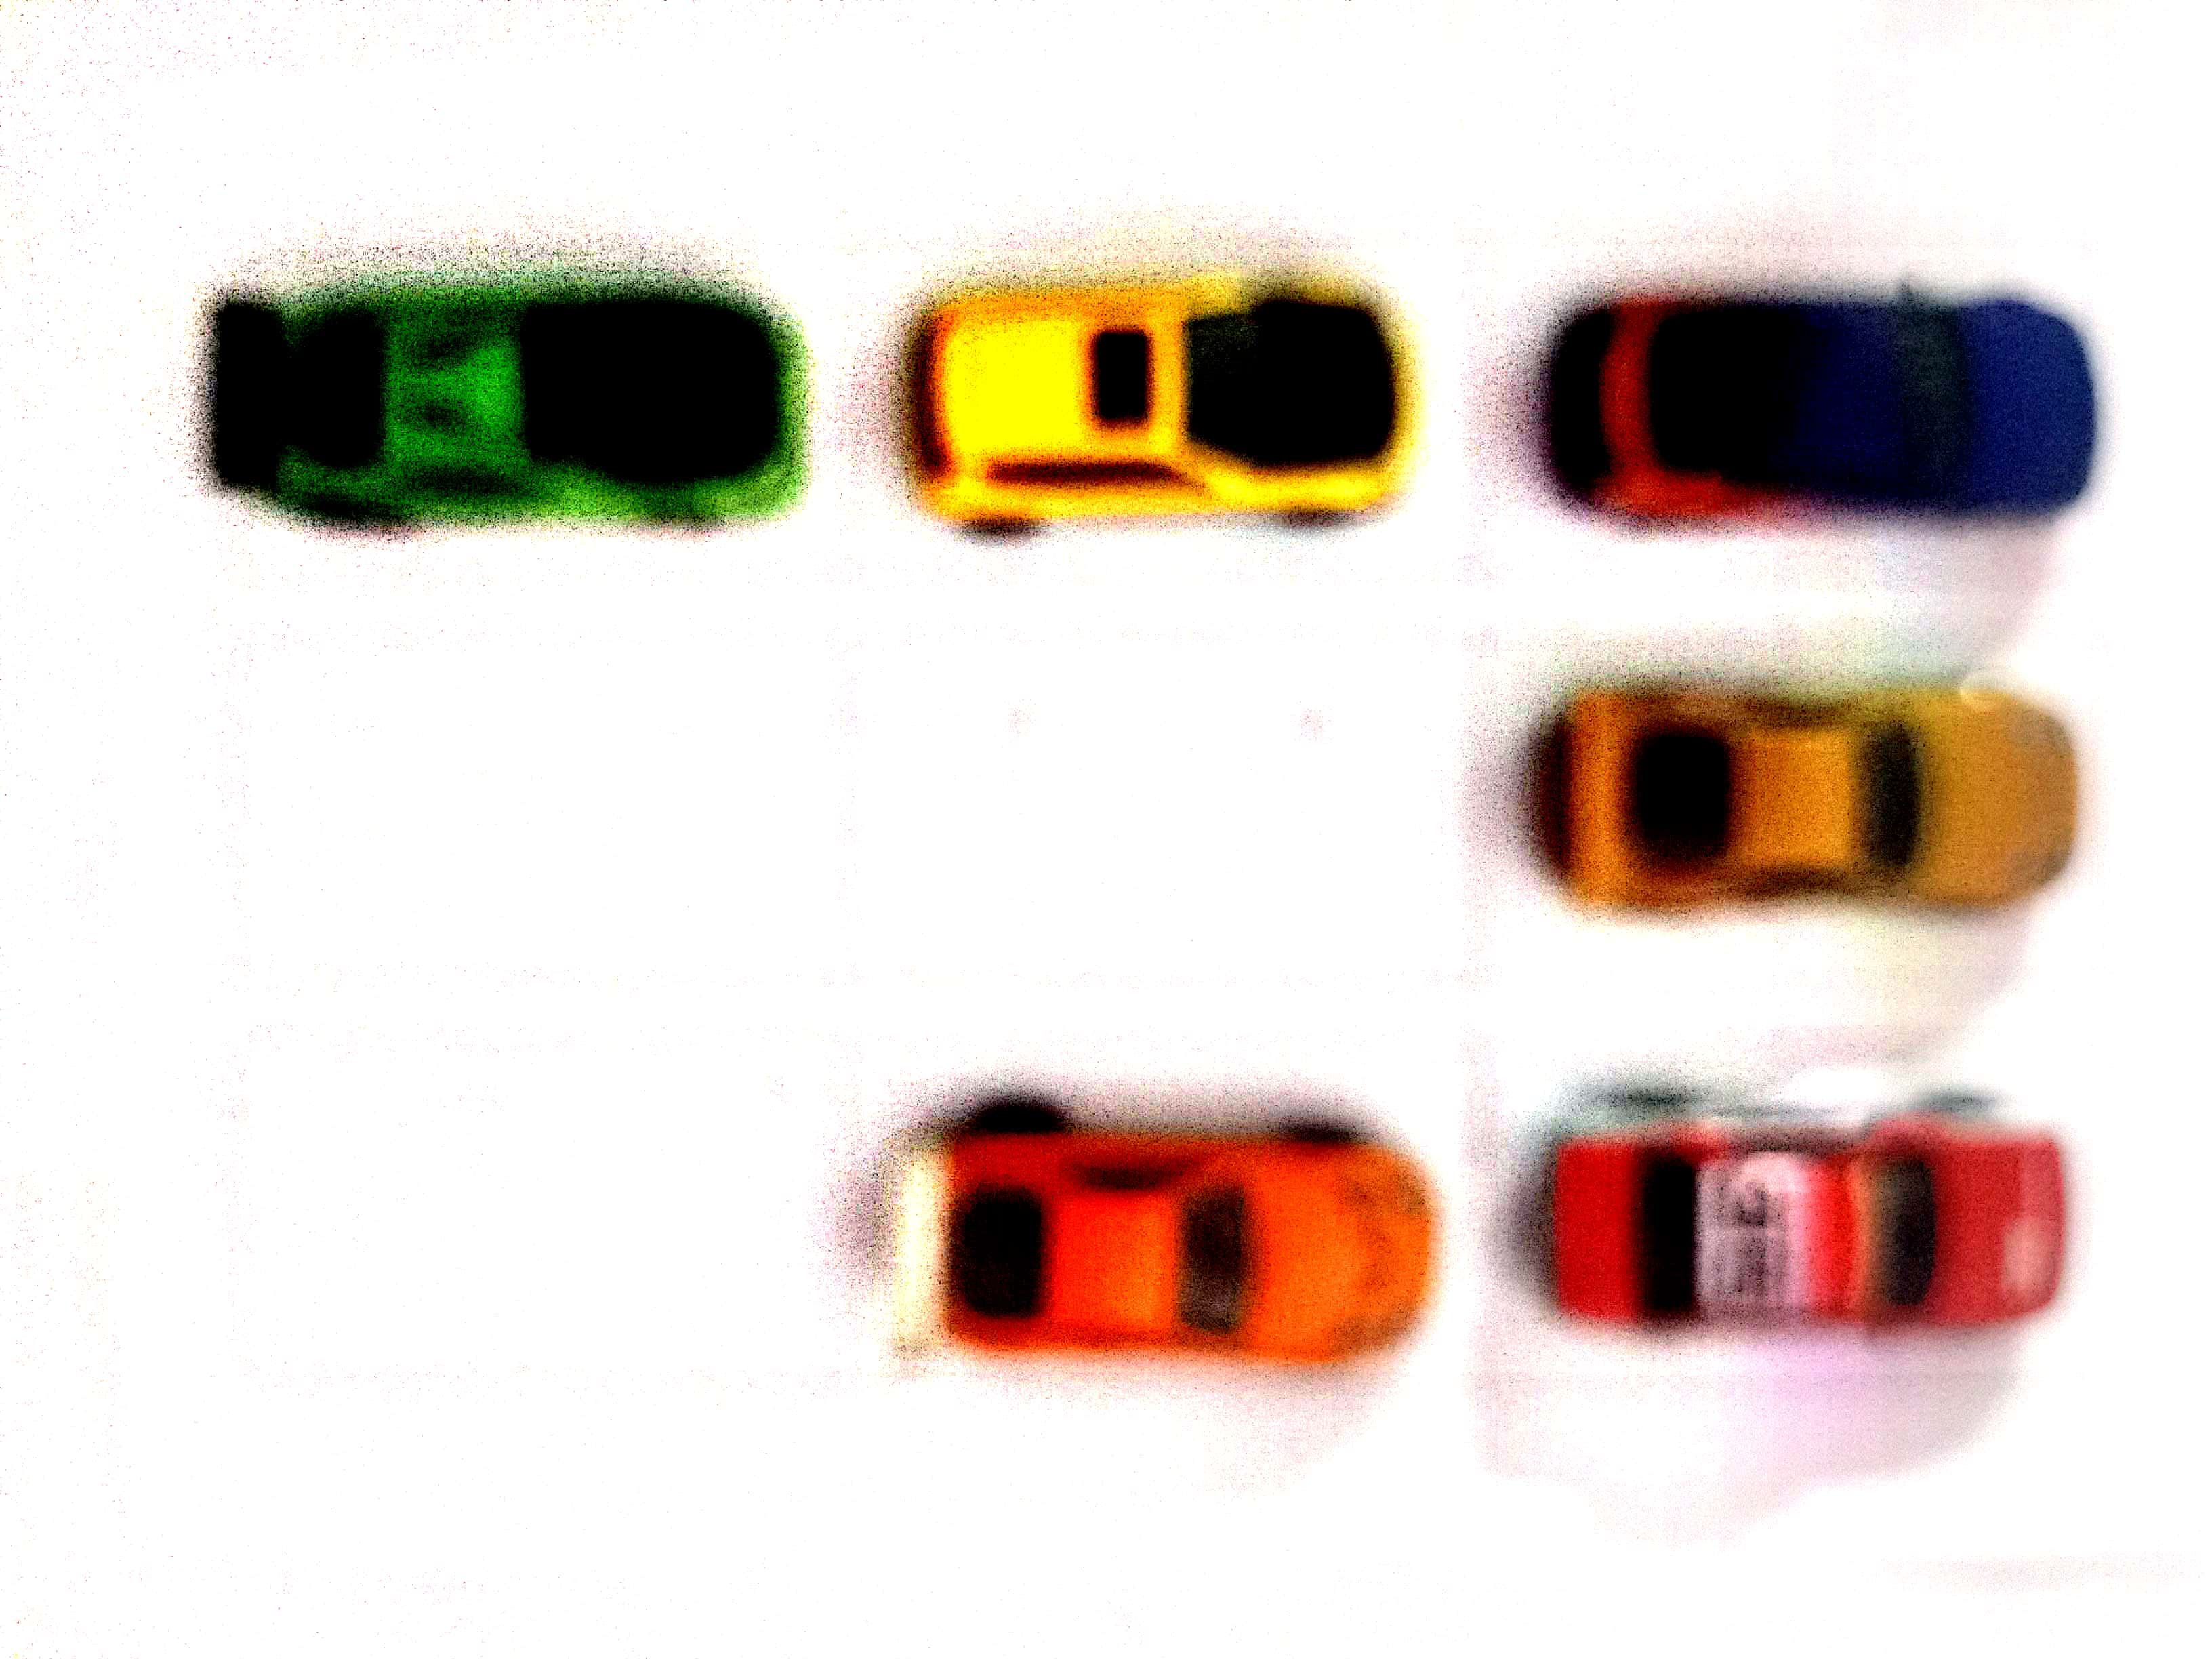Busy: (1458, 627, 2102, 1002), (158, 232, 840, 580), (1470, 1053, 2102, 1419), (1467, 227, 2114, 577), (840, 1058, 1470, 1415), (845, 232, 1470, 577)
Free: (158, 627, 843, 1002), (153, 1056, 840, 1422), (845, 633, 1458, 997)
